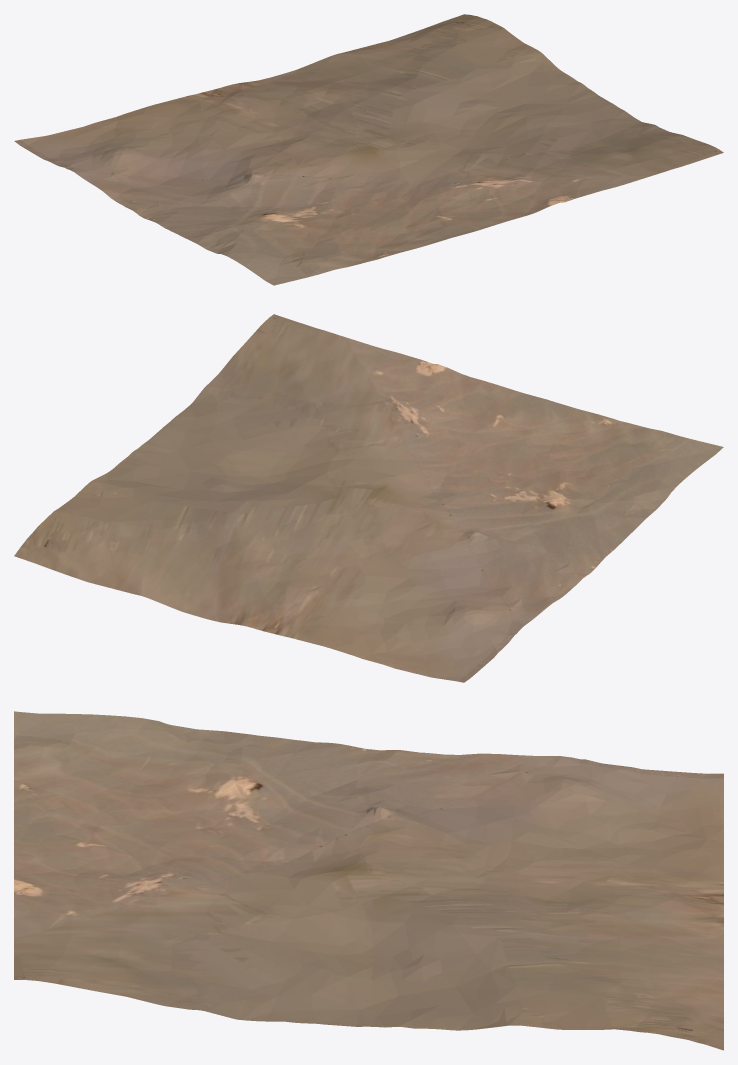
The picture shows the model from 3 angles, top to bottom: view 1: azimuth 30°, elevation 25°; view 2: azimuth 150°, elevation 25°; view 3: azimuth 270°, elevation 25°; orthographic projection. The views are drawn at different scales.
Bounding box in the file's own units: 2.09 × 0.3165 × 2.09.
Materials: 2 (2 with a texture image).
